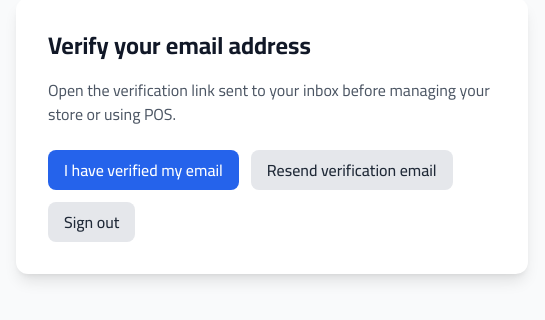
Owner verification screen › does not grant UI authority when session refresh fails
Click the button "I have verified my email": (143, 170) [48,150,239,190]
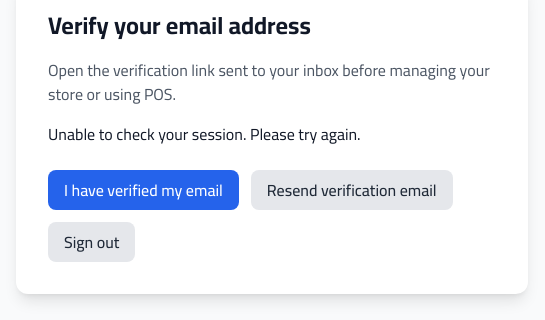
Check: the text "Unable to check your session. Please try again." is shown, box [48,119,361,149]
